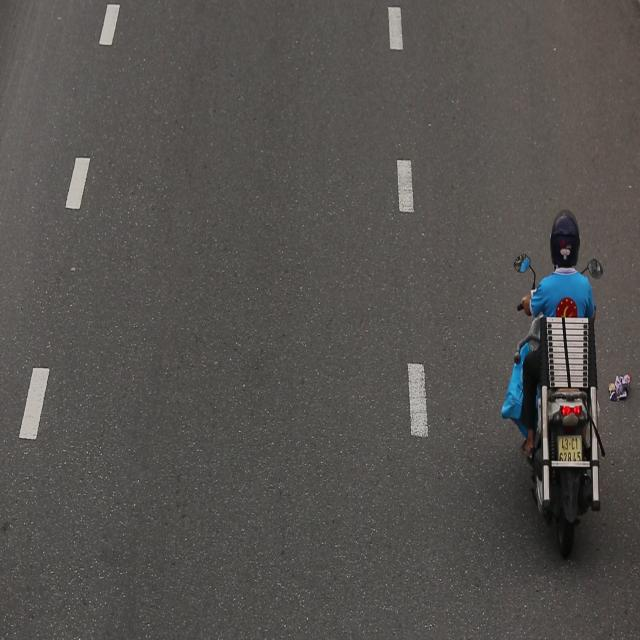motorbike: (509, 200, 615, 568)
